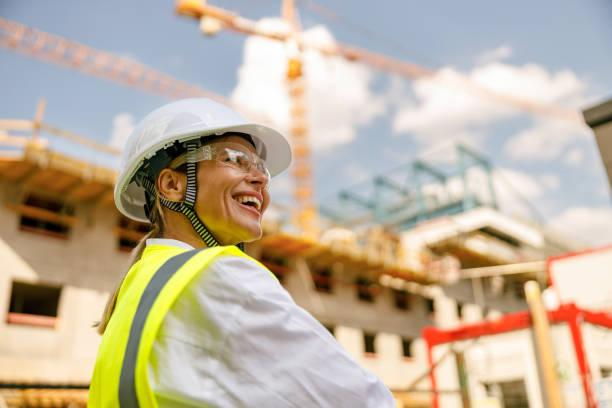capacete: (116, 110, 308, 191)
oculos de protecao: (167, 150, 275, 184)
pessoa: (89, 94, 373, 408)
uniforme seguranca: (102, 238, 275, 408)
